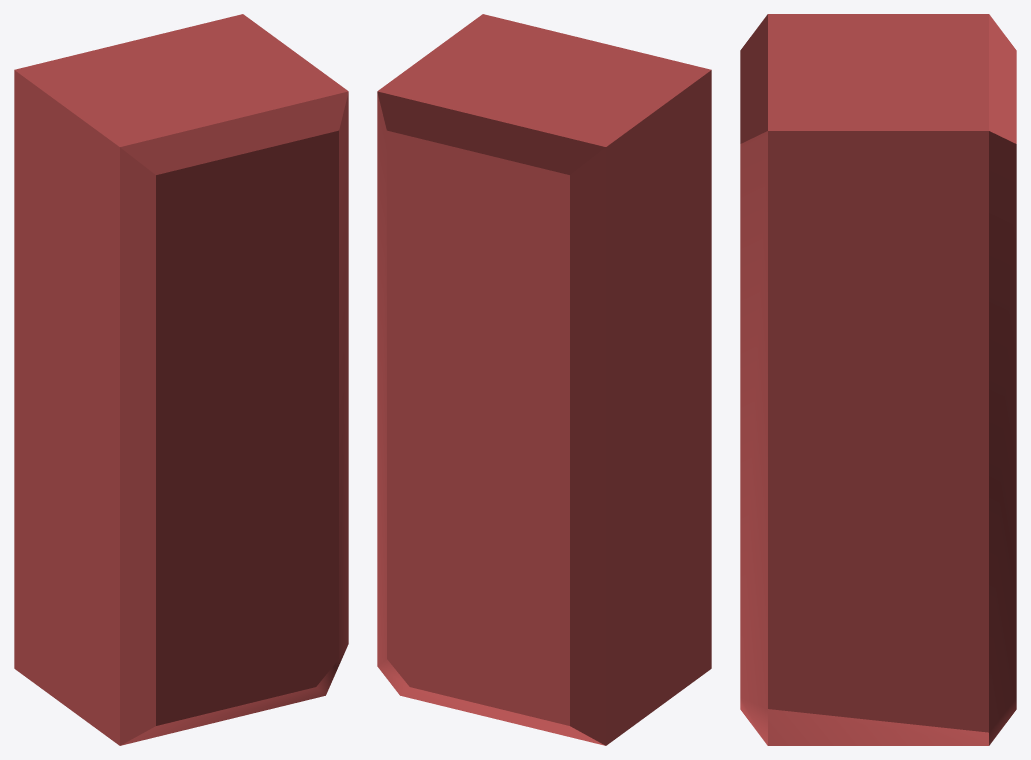
File: SM_Wall_50x20.fbx
The picture shows the model from 3 angles, left to right: view 1: azimuth 30°, elevation 25°; view 2: azimuth 150°, elevation 25°; view 3: azimuth 270°, elevation 25°; orthographic projection. The views are drawn at different scales.
Parts seen in each view (by area): view 1: SM_Wall_50x20:Wall_50x20; view 2: SM_Wall_50x20:Wall_50x20; view 3: SM_Wall_50x20:Wall_50x20.
Boxes of the visible parts, left/top/right/bottom form: SM_Wall_50x20:Wall_50x20: left=14, top=14, right=348, bottom=745; SM_Wall_50x20:Wall_50x20: left=377, top=14, right=711, bottom=745; SM_Wall_50x20:Wall_50x20: left=740, top=14, right=1016, bottom=745.
Size of the model in its own units: 20 by 50 by 20.
